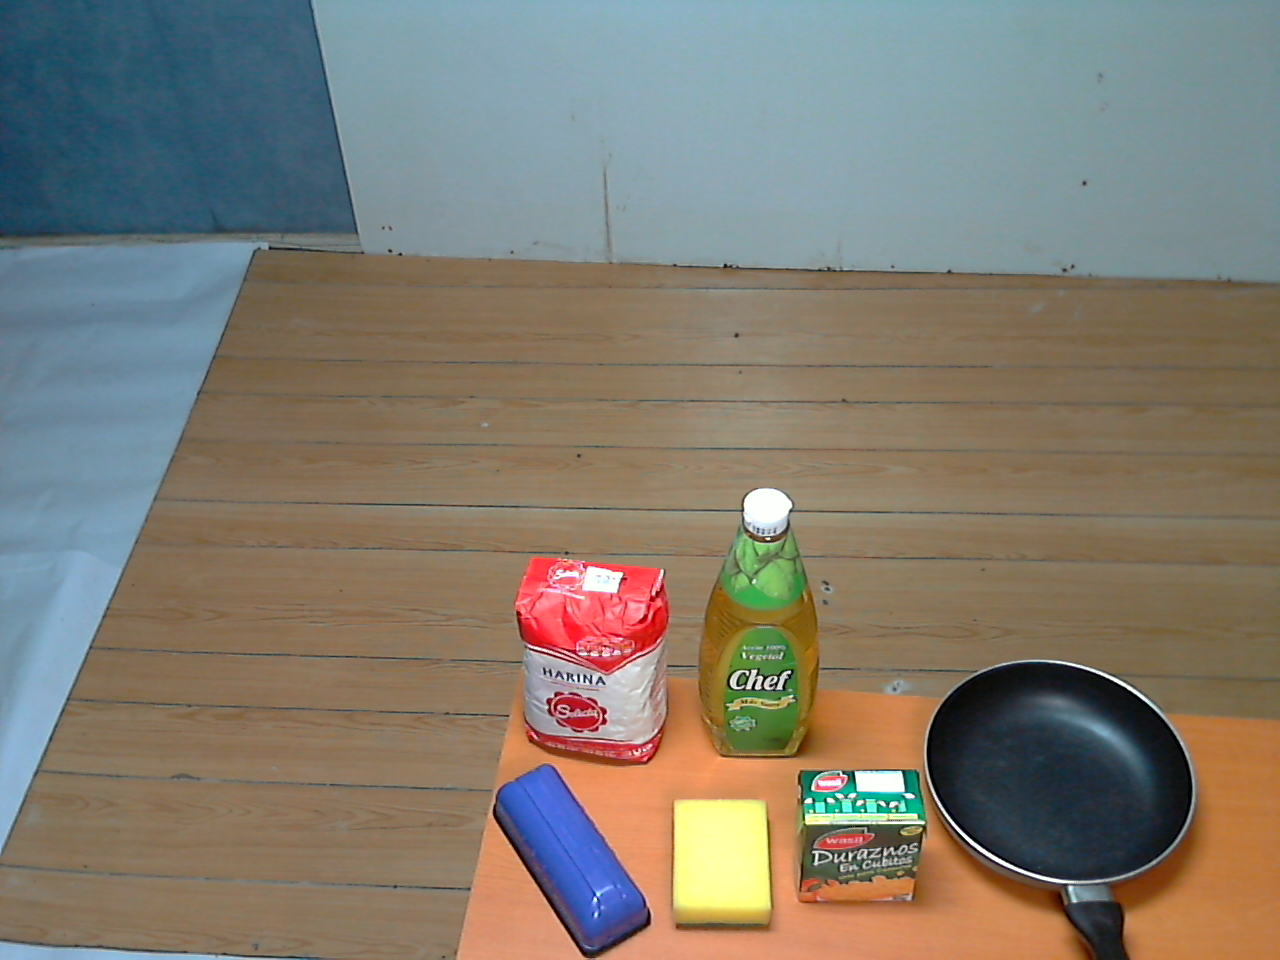aceite: (683, 481, 836, 764)
borrador: (476, 759, 664, 960)
durazno: (785, 759, 933, 916)
esponja: (664, 791, 785, 938)
harina: (507, 541, 679, 776)
sarten: (910, 647, 1215, 960)
